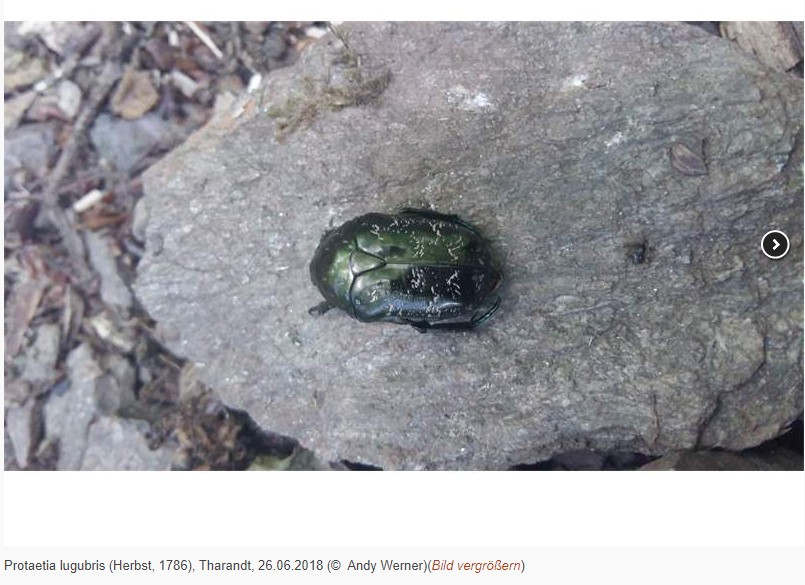Protaetia_lugubris: (305, 200, 508, 339)
